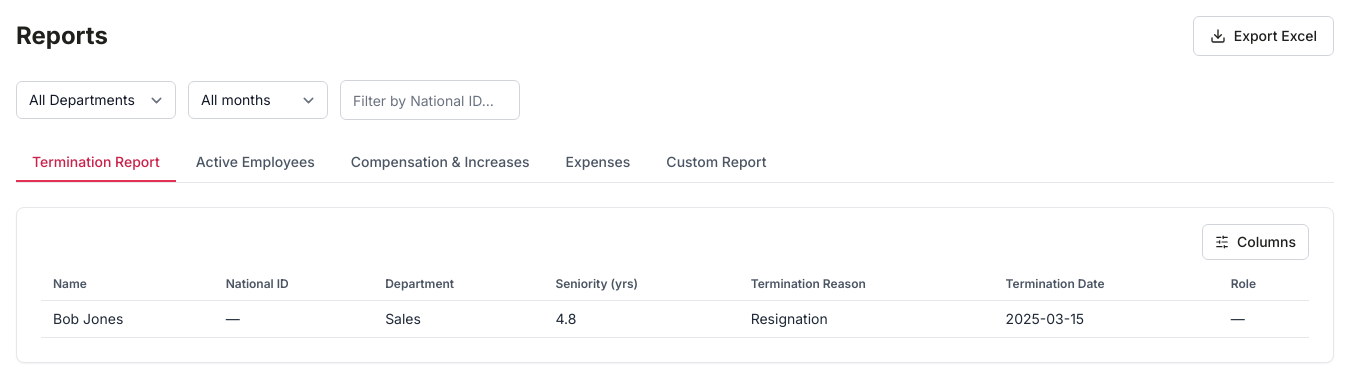
Test case: ReportsPage › C-2: clicking Active Employees tab shows active employee data
Click the tab "Active Employees" at x=255, y=163, box x1=180 y1=144 x2=331 y2=182
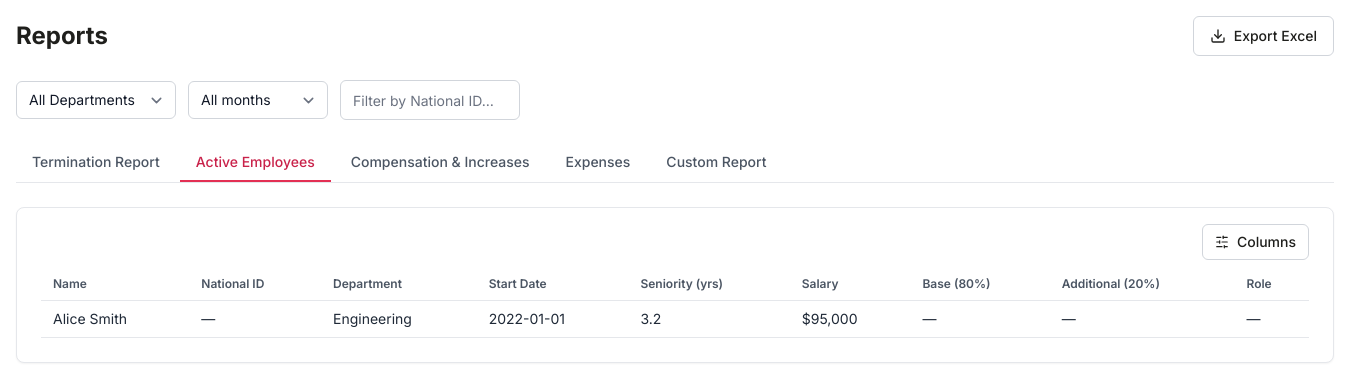
Now the text "Alice Smith" is shown, box x1=41 y1=300 x2=189 y2=338
Now the text "$95,000" is shown, box x1=790 y1=300 x2=910 y2=338
